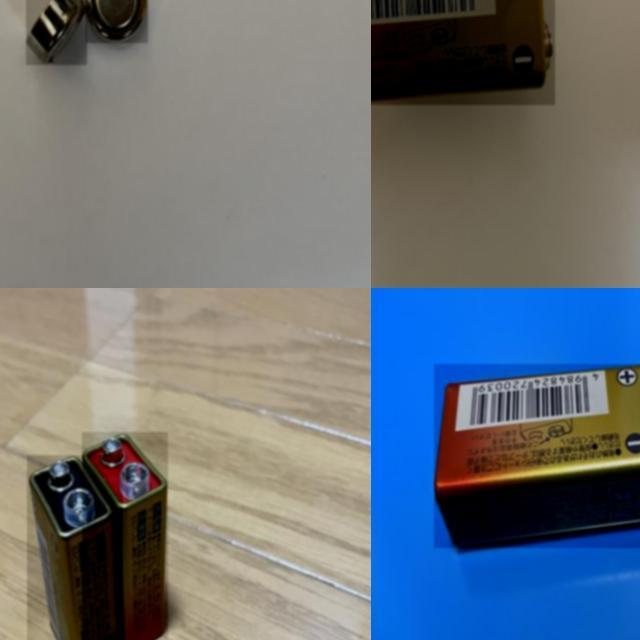9V: (434, 364, 640, 548), (371, 0, 555, 105), (82, 432, 168, 640), (27, 455, 123, 640)
